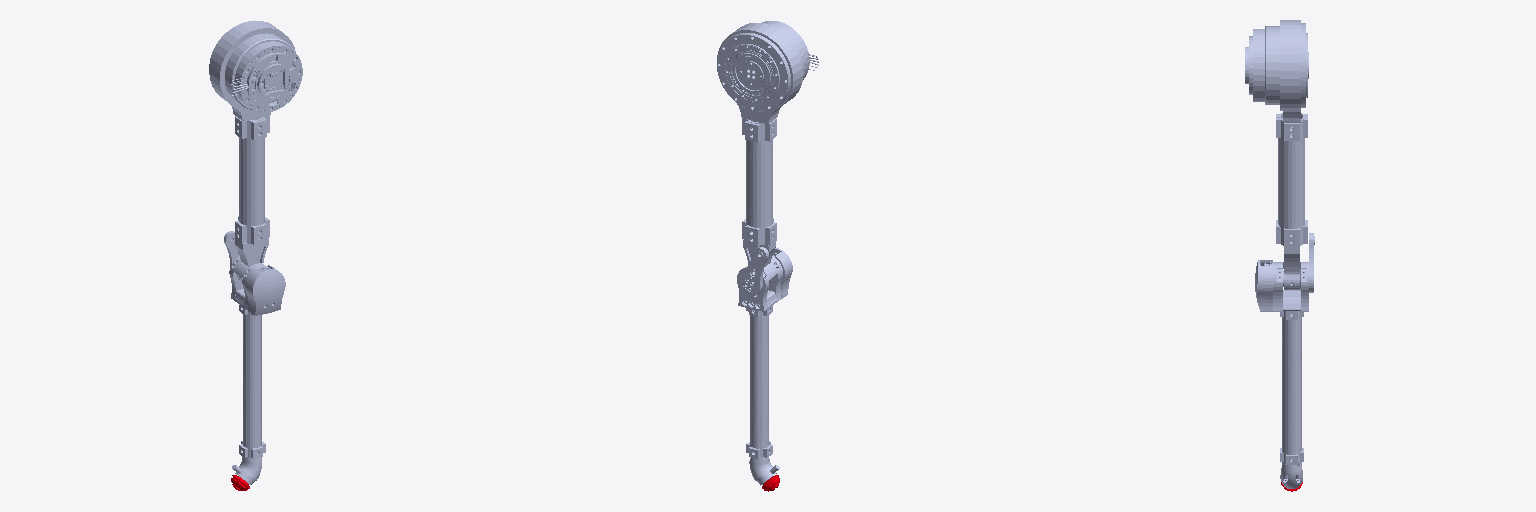
URDF robot description (PONGBOT_ONE_LEG):
<robot
  name="PONGBOT_ONE_LEG">
  <link
    name="BASE">
    <inertial>
      <origin
        xyz="-0.048 0.063 -0.002"
        rpy="0 0 0" />
      <mass
        value="3.6" />
      <inertia
        ixx="0.017"
        ixy="-0.005"
        ixz="0"
        iyy="0.022"
        iyz="0.001"
        izz="0.034" />
    </inertial>
    <visual>
      <origin
        xyz="0 0 0"
        rpy="0 0 0" />
      <geometry>
        <mesh
          filename="package://pongbot_one_leg_rviz/meshes/BASE.STL" />
      </geometry>
      <material
        name="">
        <color
          rgba="0.79216 0.81961 0.93333 1" />
      </material>
    </visual>
    <collision>
      <origin
        xyz="0 0 0"
        rpy="0 0 0" />
      <geometry>
        <mesh
          filename="package://pongbot_one_leg_rviz/meshes/BASE.STL" />
      </geometry>
    </collision>
  </link>
  <link
    name="HIP">
    <inertial>
      <origin
        xyz="0.001 0.003 0"
        rpy="0 0 0" />
      <mass
        value="2.35" />
      <inertia
        ixx="0.002"
        ixy="0"
        ixz="0"
        iyy="0.002"
        iyz="0"
        izz="0.002" />
    </inertial>
    <visual>
      <origin
        xyz="0 0 0"
        rpy="0 0 0" />
      <geometry>
        <mesh
          filename="package://pongbot_one_leg_rviz/meshes/HIP.STL" />
      </geometry>
      <material
        name="">
        <color
          rgba="0.79216 0.81961 0.93333 1" />
      </material>
    </visual>
    <collision>
      <origin
        xyz="0 0 0"
        rpy="0 0 0" />
      <geometry>
        <mesh
          filename="package://pongbot_one_leg_rviz/meshes/HIP.STL" />
      </geometry>
    </collision>
  </link>
  <joint
    name="HR_JOINT"
    type="continuous">
    <origin
      xyz="0 0.1208 0"
      rpy="0 0 0" />
    <parent
      link="BASE" />
    <child
      link="HIP" />
    <axis
      xyz="1 0 0" />
  </joint>
  <link
    name="THIGH">
    <inertial>
      <origin
        xyz="0 -0.01 -0.037"
        rpy="0 0 0" />
      <mass
        value="3.15" />
      <inertia
        ixx="0.024"
        ixy="0"
        ixz="0"
        iyy="0.025"
        iyz="-0.001"
        izz="0.003" />
    </inertial>
    <visual>
      <origin
        xyz="0 0 0"
        rpy="0 0 0" />
      <geometry>
        <mesh
          filename="package://pongbot_one_leg_rviz/meshes/THIGH.STL" />
      </geometry>
      <material
        name="">
        <color
          rgba="0.79216 0.81961 0.93333 1" />
      </material>
    </visual>
    <collision>
      <origin
        xyz="0 0 0"
        rpy="0 0 0" />
      <geometry>
        <mesh
          filename="package://pongbot_one_leg_rviz/meshes/THIGH.STL" />
      </geometry>
    </collision>
  </link>
  <joint
    name="HP_JOINT"
    type="continuous">
    <origin
      xyz="0 0.105 0"
      rpy="0 0 0" />
    <parent
      link="HIP" />
    <child
      link="THIGH" />
    <axis
      xyz="0 1 0" />
  </joint>
  <link
    name="CALF">
    <inertial>
      <origin
        xyz="-0.001 -0.006 -0.081"
        rpy="0 0 0" />
      <mass
        value="0.35" />
      <inertia
        ixx="0.01"
        ixy="0"
        ixz="0"
        iyy="0.01"
        iyz="0"
        izz="0" />
    </inertial>
    <visual>
      <origin
        xyz="0 0 0"
        rpy="0 0 0" />
      <geometry>
        <mesh
          filename="package://pongbot_one_leg_rviz/meshes/CALF.STL" />
      </geometry>
      <material
        name="">
        <color
          rgba="0.79216 0.81961 0.93333 1" />
      </material>
    </visual>
    <collision>
      <origin
        xyz="0 0 0"
        rpy="0 0 0" />
      <geometry>
        <mesh
          filename="package://pongbot_one_leg_rviz/meshes/CALF.STL" />
      </geometry>
    </collision>
  </link>
  <joint
    name="KN_JOINT"
    type="continuous">
    <origin
      xyz="0 0 -0.305"
      rpy="0 0 0" />
    <parent
      link="THIGH" />
    <child
      link="CALF" />
    <axis
      xyz="0 1 0" />
  </joint>
  <link
    name="TIP">
    <inertial>
      <origin
        xyz="-0.005 0 -0.005"
        rpy="0 0 0" />
      <mass
        value="0.006" />
      <inertia
        ixx="0"
        ixy="0"
        ixz="0"
        iyy="0"
        iyz="0"
        izz="0" />
    </inertial>
    <visual>
      <origin
        xyz="0 0 0"
        rpy="0 0 0" />
      <geometry>
        <mesh
          filename="package://pongbot_one_leg_rviz/meshes/TIP.STL" />
      </geometry>
      <material
        name="">
        <color
          rgba="1 0 0.098039 1" />
      </material>
    </visual>
    <collision>
      <origin
        xyz="0 0 0"
        rpy="0 0 0" />
      <geometry>
        <mesh
          filename="package://pongbot_one_leg_rviz/meshes/TIP.STL" />
      </geometry>
    </collision>
  </link>
  <joint
    name="TIP_JOINT"
    type="fixed">
    <origin
      xyz="-0.013819 0 -0.29282"
      rpy="0 0 0" />
    <parent
      link="CALF" />
    <child
      link="TIP" />
    <axis
      xyz="0 0 0" />
  </joint>
</robot>

--- What the picture shows (computed from the rendered views, not written in the file) ---
The picture shows the robot from 3 angles, left to right: view 1: azimuth 30°, elevation 25°; view 2: azimuth 150°, elevation 25°; view 3: azimuth 270°, elevation 25°; orthographic projection.
Model PONGBOT_ONE_LEG with 5 links and 4 joints (3 continuous, 1 fixed), rooted at BASE, posed all joints at 0.
Visible links, largest first — view 1: THIGH, CALF; view 2: THIGH, CALF; view 3: THIGH, CALF.
Boxes of the visible links, left/top/right/bottom form: THIGH: left=209, top=20, right=302, bottom=280; CALF: left=224, top=231, right=285, bottom=484; THIGH: left=717, top=21, right=818, bottom=282; CALF: left=737, top=247, right=792, bottom=485; THIGH: left=1245, top=20, right=1308, bottom=289; CALF: left=1255, top=233, right=1314, bottom=488.
Size in the robot's own frame: 0.1197 by 0.0908 by 0.672 metres.
3 mesh visuals loaded from 5 distinct referenced files (3 binary STL); not drawn: 2 (reference not matched to a file when rendering).